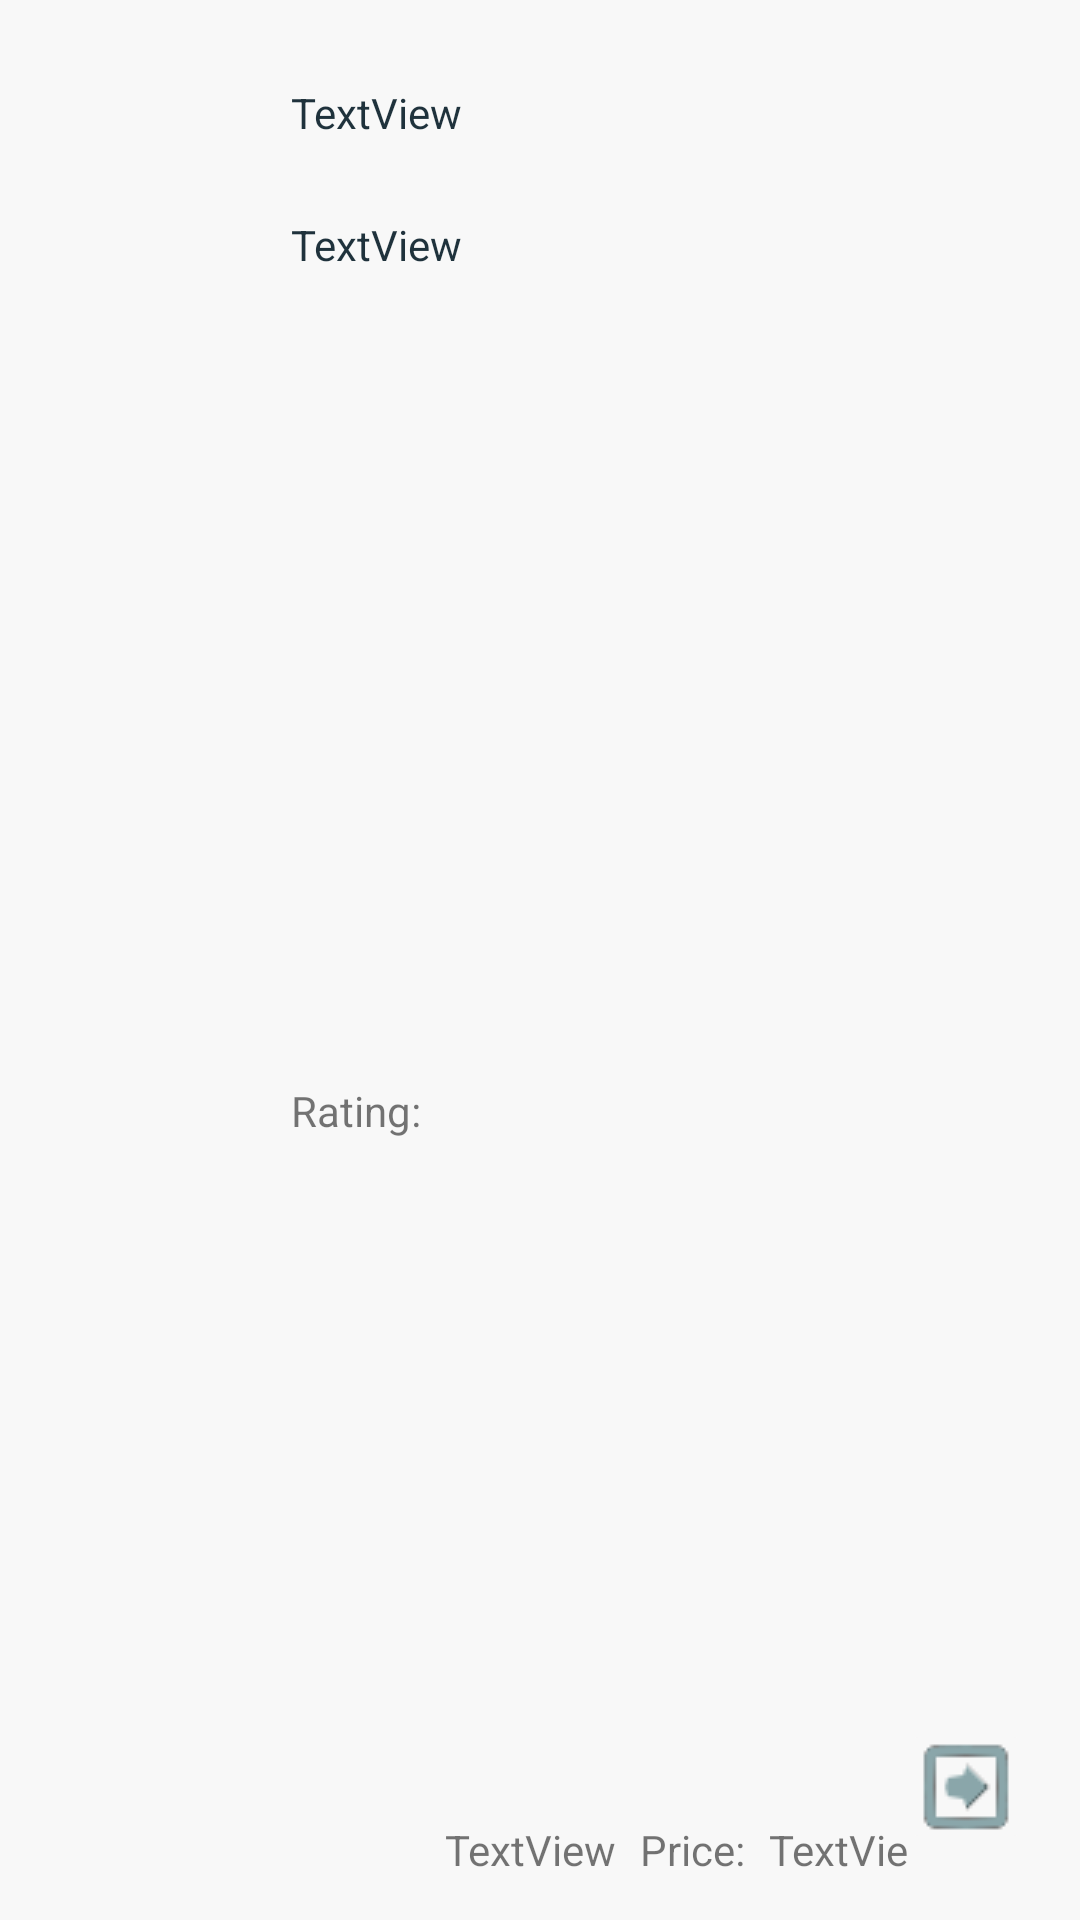

Named icons in this screenshot (1080px×1920px) and their centers, (x=x, y=y):
arrow right box: (x=966, y=1787)
